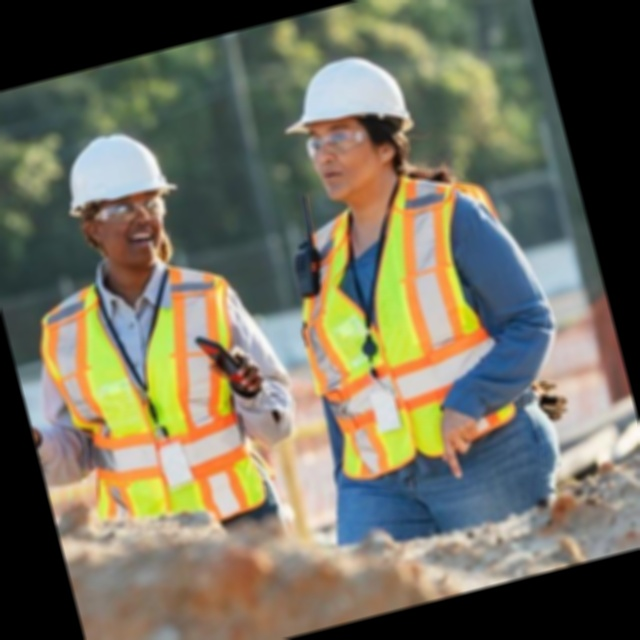Con_Casco: (270, 44, 425, 205), (53, 121, 194, 281)
Con_Chaleco: (266, 161, 564, 492), (33, 250, 286, 548)
